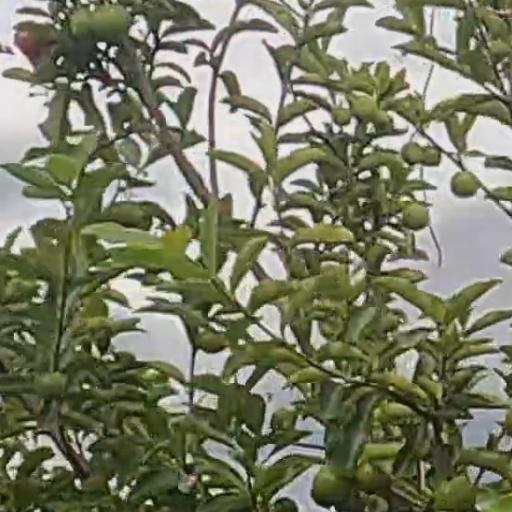acerola_verde: (434, 477, 477, 512), (311, 468, 347, 502), (93, 7, 131, 39), (34, 375, 66, 399), (357, 464, 389, 488), (404, 204, 429, 228), (452, 172, 476, 195), (402, 143, 425, 165)
acerola_vermelha: (15, 25, 42, 55)
